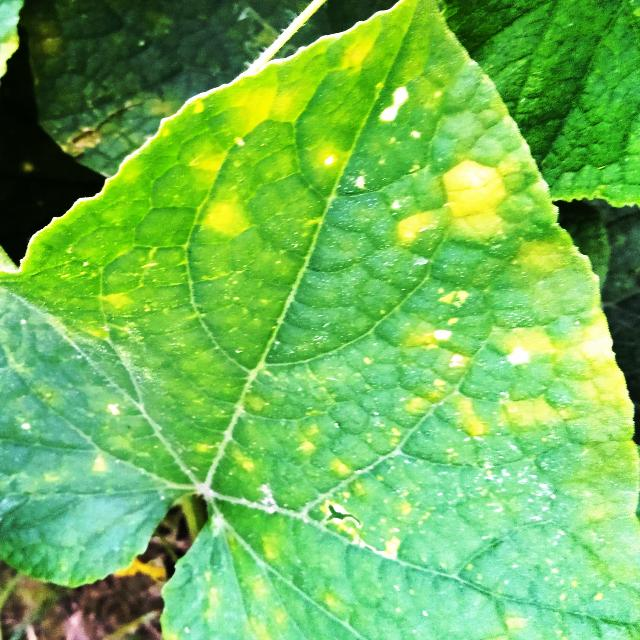Downy-Mildew: (3, 4, 640, 640)
